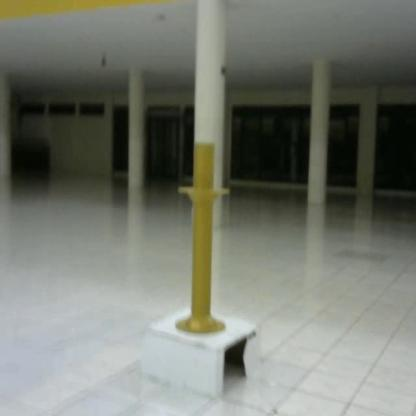pole: (173, 138, 235, 343)
